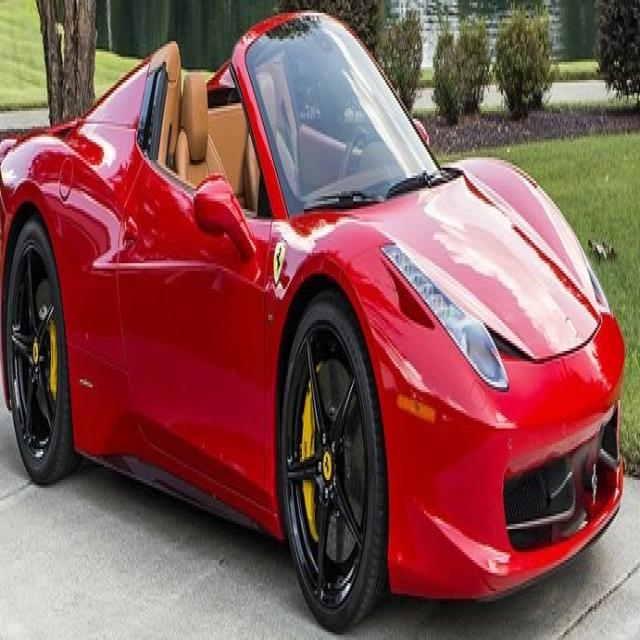red: (4, 12, 640, 601)
